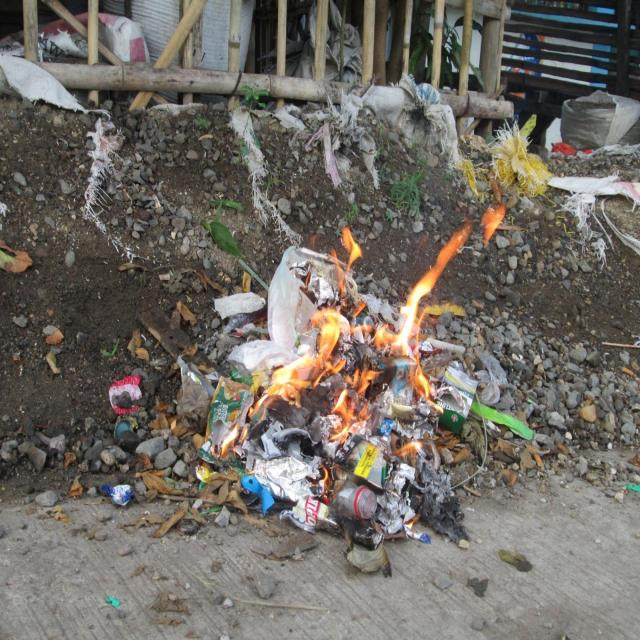fire: (390, 223, 472, 361), (311, 309, 346, 386), (269, 351, 315, 406), (331, 226, 363, 297), (409, 363, 444, 413)
